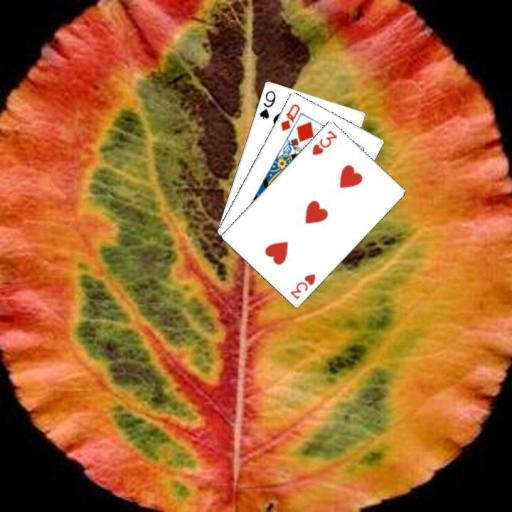3H: (309, 127, 339, 157), (287, 270, 317, 300)
9S: (256, 87, 277, 121)
QD: (278, 101, 302, 133)
